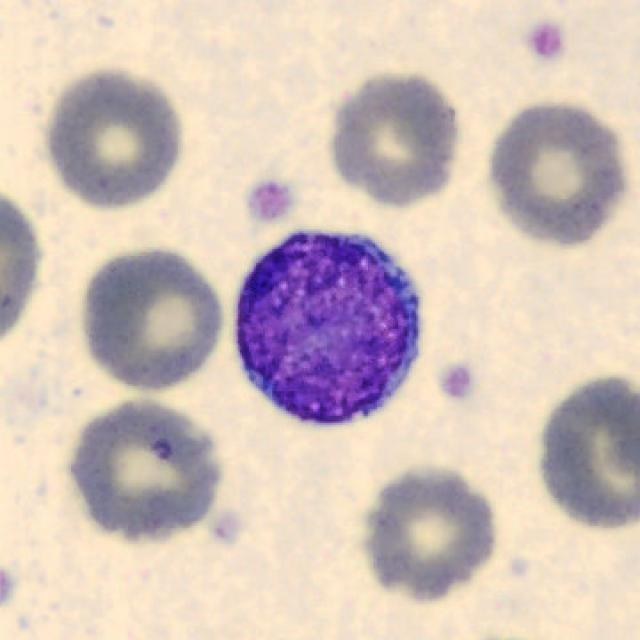Linfocito: (235, 233, 420, 428)
